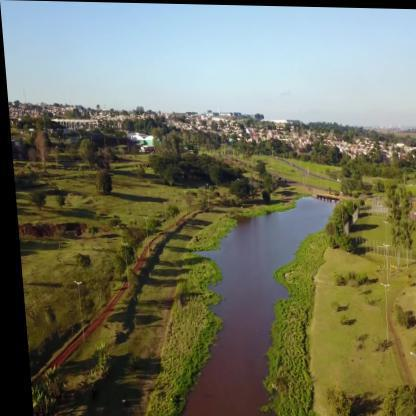agua: (202, 280, 280, 414), (222, 230, 299, 271), (289, 196, 328, 227)
